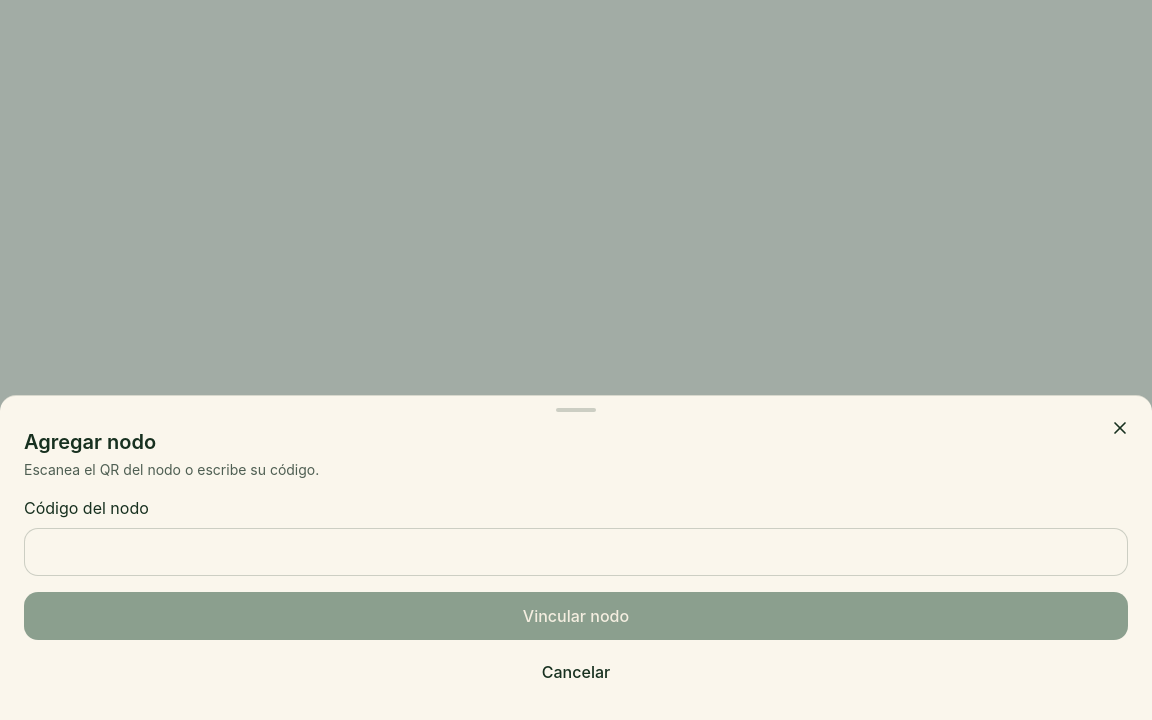
Test: ClaimNodeSheet › copies the password to the clipboard
Type "ABC-123" into the field labelled "Código del nodo" at (576, 552), box [24, 528, 1128, 576]
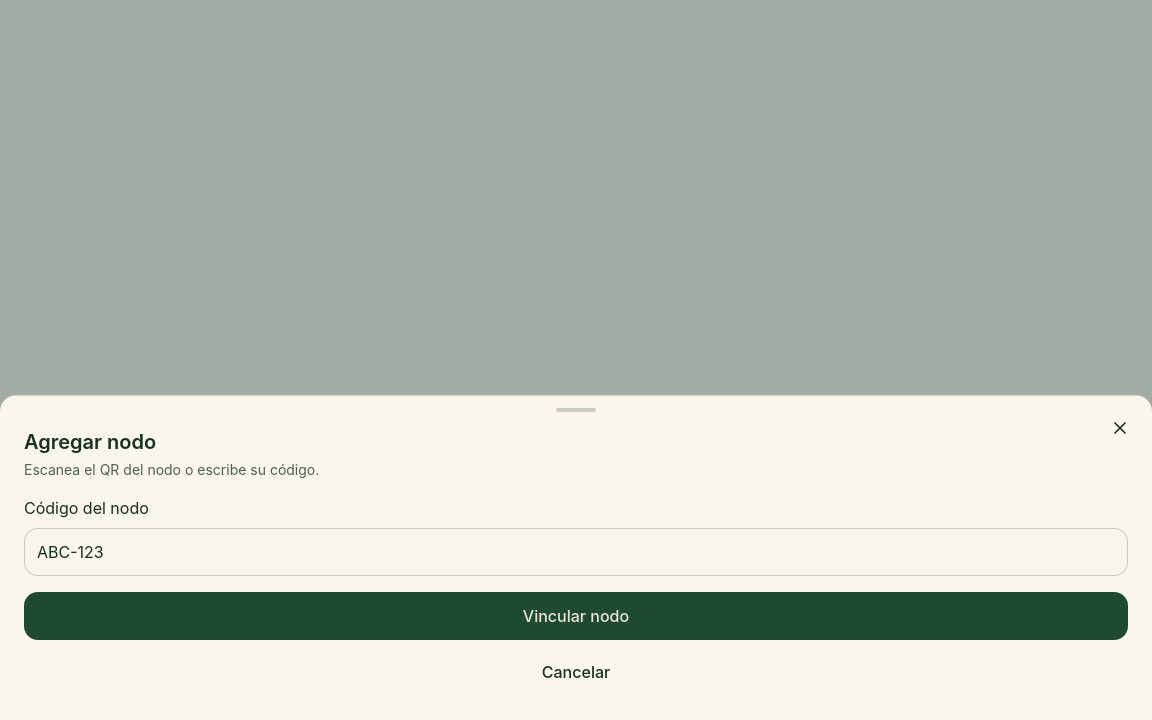
Click the button "Vincular nodo" at (576, 616), box [24, 592, 1128, 640]
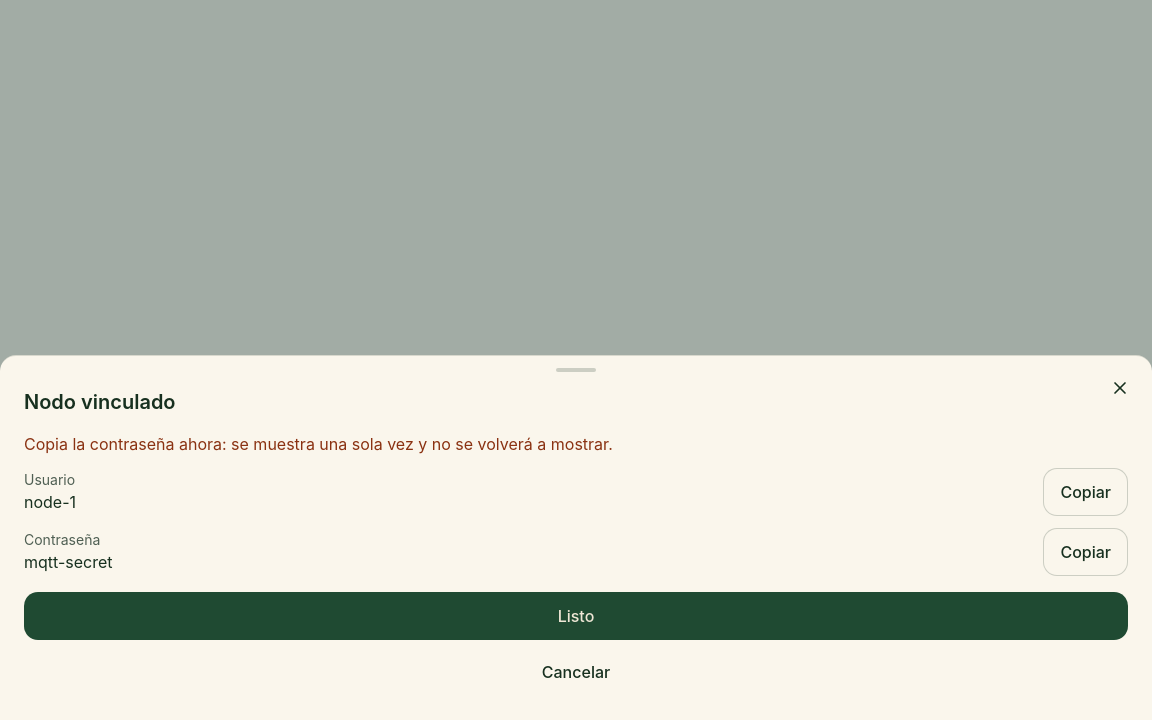
Expected: the text "mqtt-secret" is shown, [24, 550, 113, 574]
Click the button with aria-label "Copiar contraseña" at (1086, 552), box [1043, 528, 1128, 576]
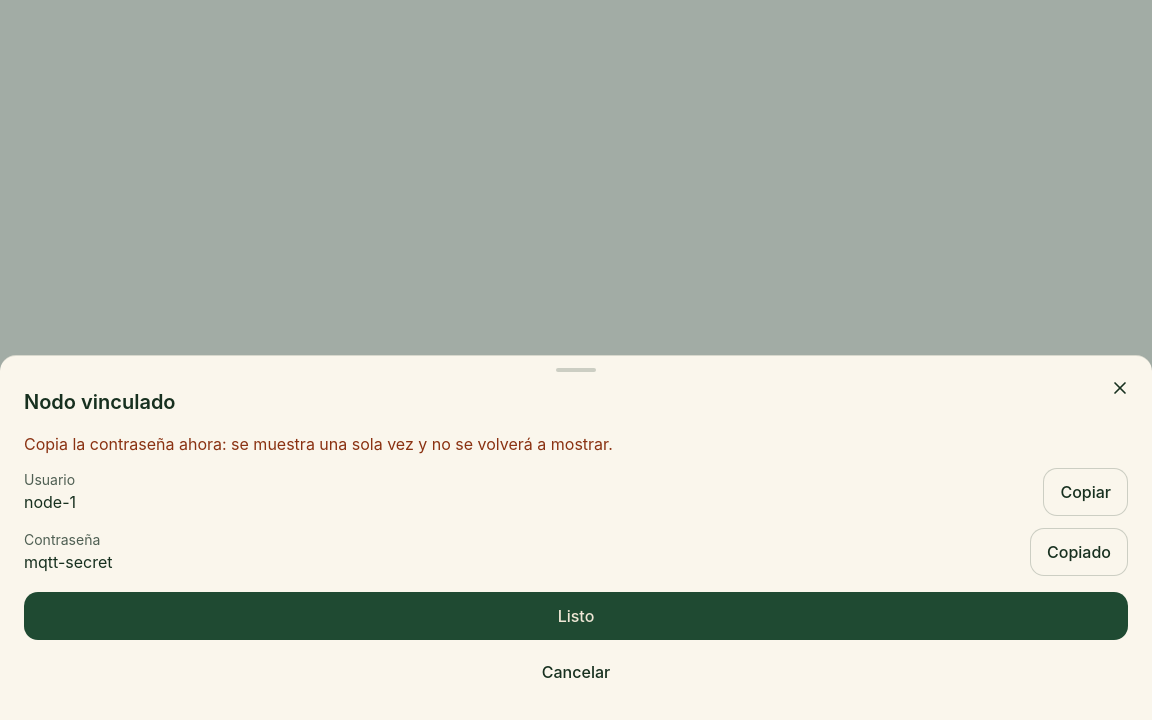
Expected: the button with aria-label "Contraseña copiada" is shown, [1030, 528, 1128, 576]
